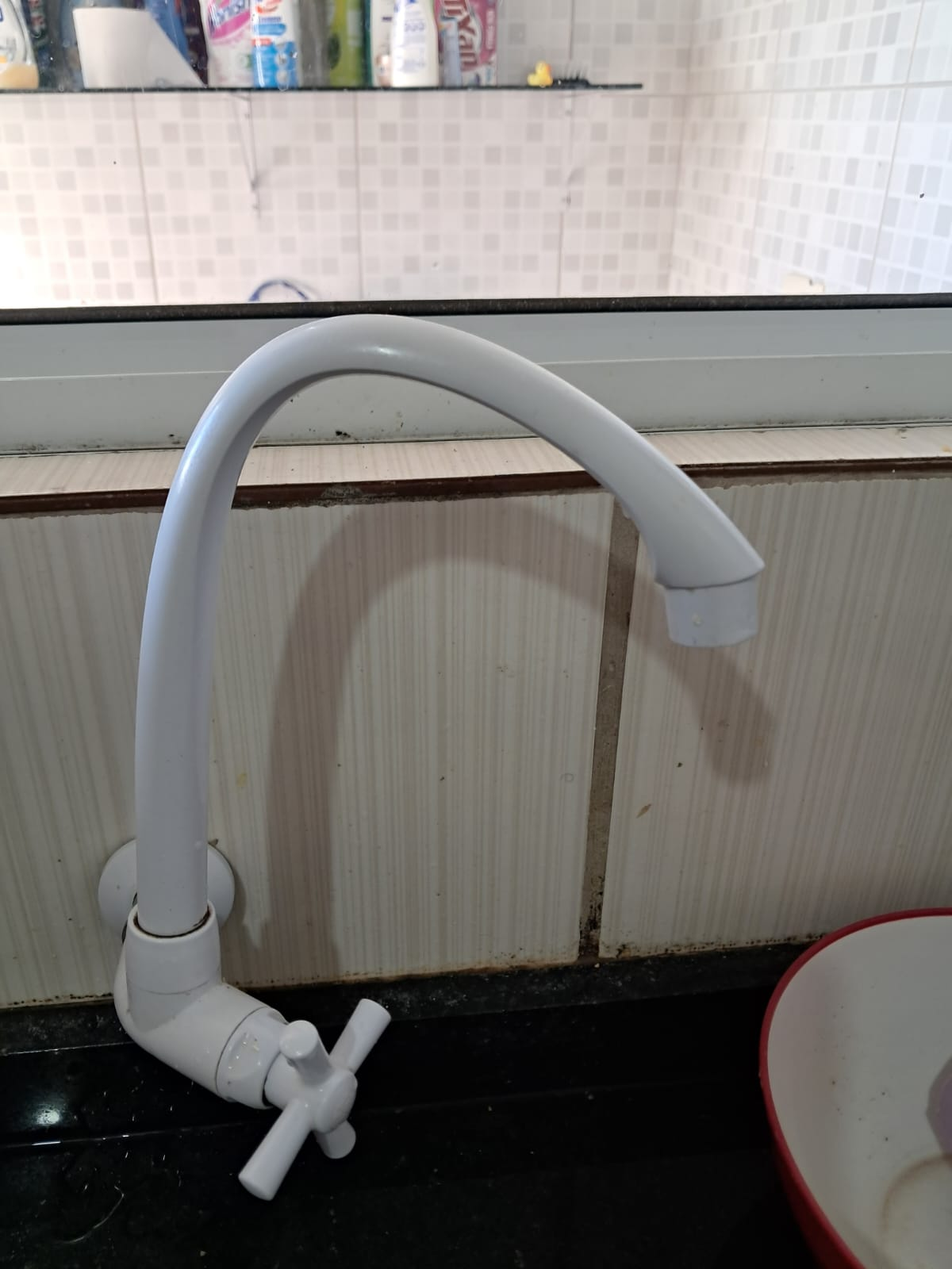torneira_fechada: (35, 282, 790, 1228)
